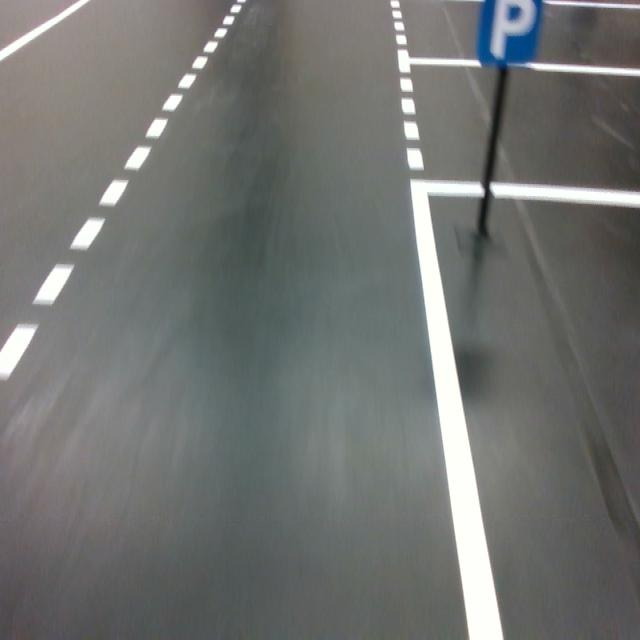parking-sign: (475, 0, 544, 68)
